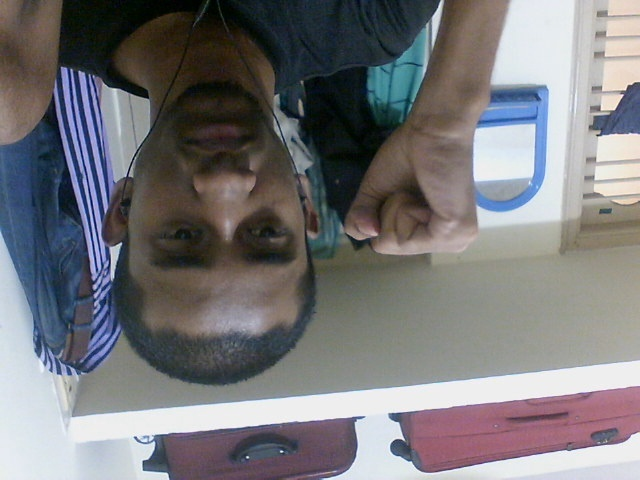hand: (338, 100, 483, 258)
